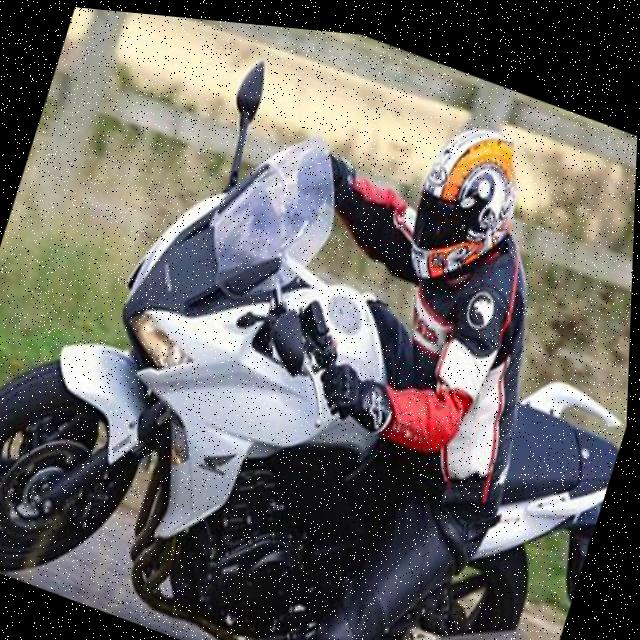helmet: (391, 91, 543, 310)
